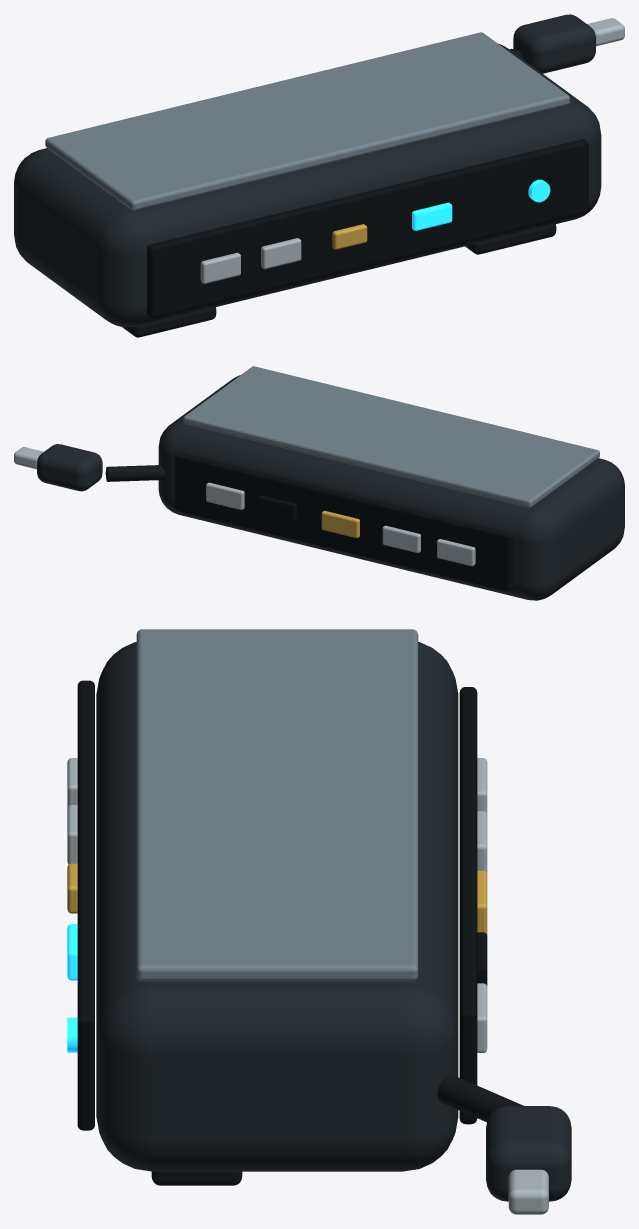
File: docking-station.glb
3 views of the same model, one above another, from view 1: azimuth 30°, elevation 25°; view 2: azimuth 150°, elevation 25°; view 3: azimuth 270°, elevation 25° (orthographic). The views are drawn at different scales.
Parts seen in each view (by area): view 1: Dock top, Dock enclosure, Front IO panel, Host cable grip, Anti-slip foot (×2), USB port (×2), USB-C port, Thunderbolt connector, SD card slot; view 2: Dock top, Dock enclosure, Rear IO panel, Rear connection (×5), Host cable grip, Premium Thunderbolt laptop docking station, Thunderbolt connector; view 3: Dock top, Dock enclosure, Front IO panel, Rear IO panel, Host cable grip, Premium Thunderbolt laptop docking station, Thunderbolt connector, Anti-slip foot.
Boxes of the visible parts, x1=… form: Dock top: x1=45, y1=32, x2=569, y2=210; Dock enclosure: x1=14, y1=43, x2=601, y2=327; Front IO panel: x1=147, y1=139, x2=588, y2=318; Host cable grip: x1=513, y1=14, x2=595, y2=73; Anti-slip foot (×2): x1=122, y1=224, x2=556, y2=337; USB port (×2): x1=200, y1=238, x2=301, y2=283; USB-C port: x1=412, y1=202, x2=452, y2=230; Thunderbolt connector: x1=587, y1=18, x2=624, y2=45; SD card slot: x1=332, y1=224, x2=367, y2=249; Dock top: x1=183, y1=366, x2=599, y2=507; Dock enclosure: x1=158, y1=375, x2=624, y2=600; Rear IO panel: x1=175, y1=452, x2=512, y2=591; Rear connection (×5): x1=206, y1=482, x2=475, y2=566; Host cable grip: x1=37, y1=444, x2=102, y2=491; Premium Thunderbolt laptop docking station: x1=105, y1=465, x2=165, y2=481; Thunderbolt connector: x1=14, y1=447, x2=43, y2=469; Dock top: x1=136, y1=629, x2=418, y2=981; Dock enclosure: x1=96, y1=642, x2=458, y2=1171; Front IO panel: x1=77, y1=680, x2=94, y2=1130; Rear IO panel: x1=459, y1=687, x2=477, y2=1124; Host cable grip: x1=486, y1=1106, x2=571, y2=1201; Premium Thunderbolt laptop docking station: x1=437, y1=1074, x2=523, y2=1122; Thunderbolt connector: x1=508, y1=1169, x2=548, y2=1214; Anti-slip foot: x1=151, y1=1171, x2=242, y2=1185.
Size of the model in its own units: 2.34 by 0.5 by 1.
